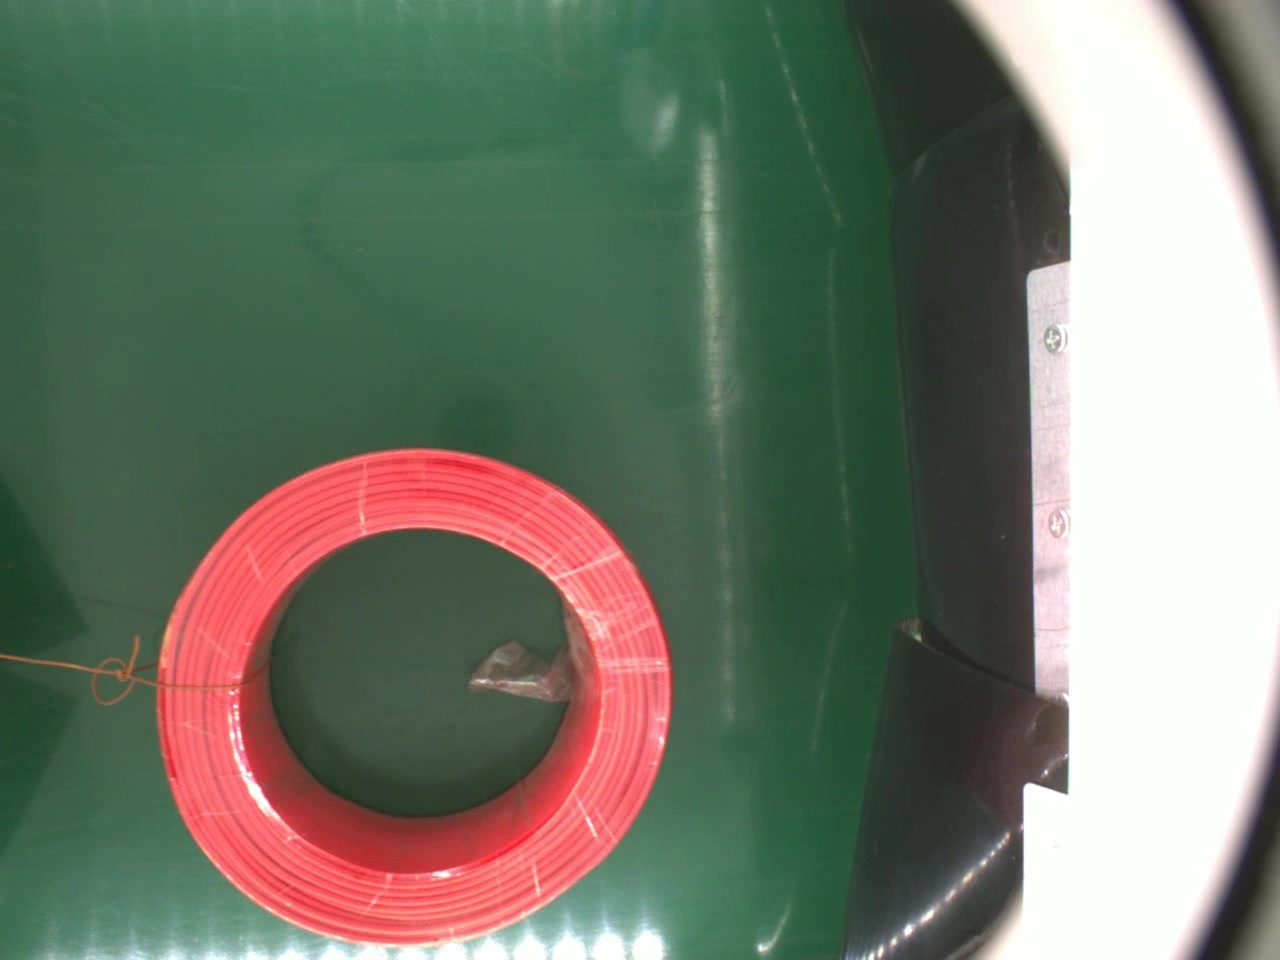red: (153, 448, 674, 951)
